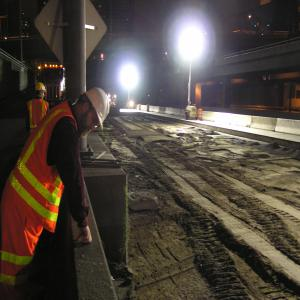white: (75, 87, 111, 137)
yellow: (35, 82, 47, 99)
